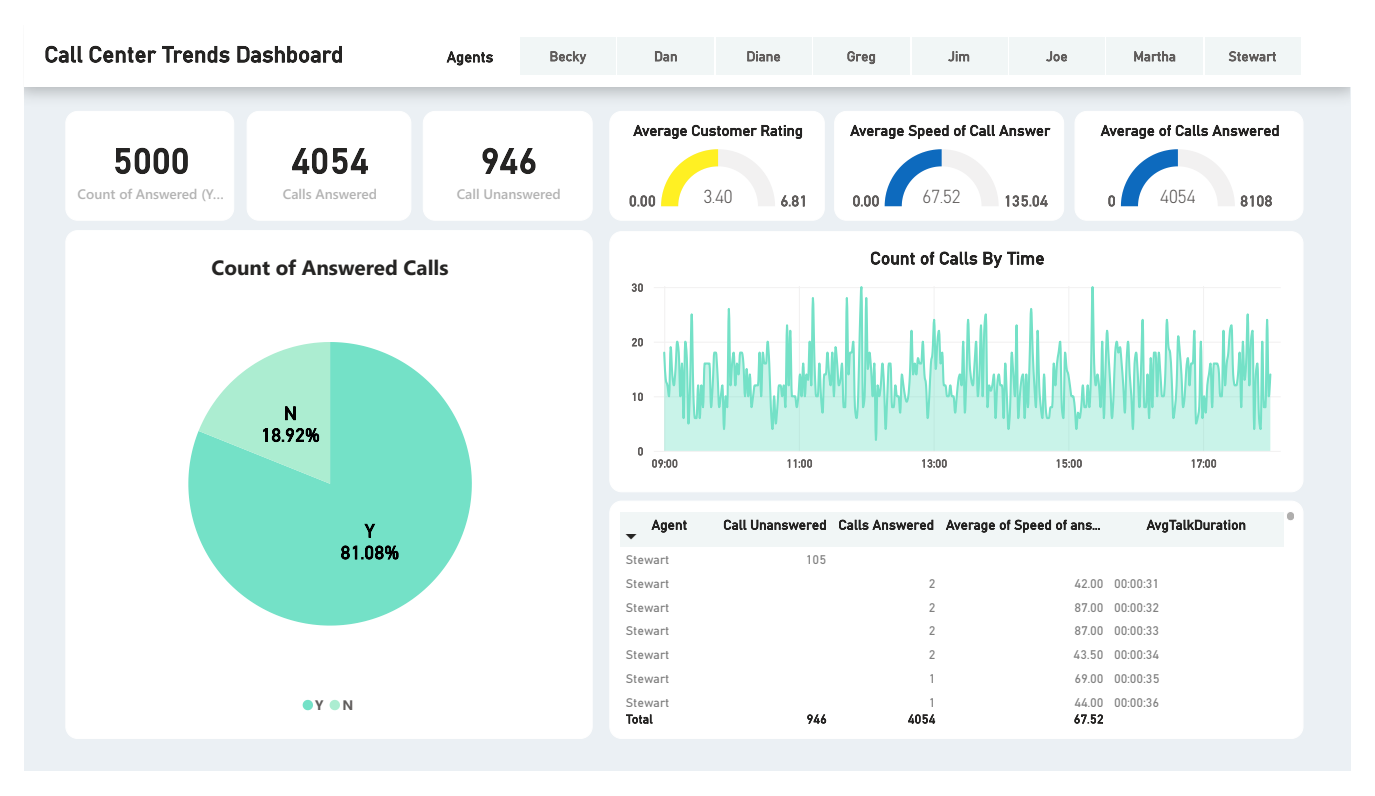

This screenshot's page, from the dashboard's own definition file:
{"tool":"powerbi","page":{"name":"Page 1","canvas":[1280,720],"ordinal":0},"visuals":[{"type":"card","fields":{"Values":["CountNonNull(Sheet1.Answered (Y/N))"]},"box":[40,82.7,162.7,106.4],"z":0},{"type":"textbox","box":[0,0,1280,60],"z":1000},{"type":"card","fields":{"Values":["Sheet1.Calls Answered"]},"box":[214.5,82.7,159.1,106.4],"z":2000},{"type":"pieChart","title":"Count of Answered Calls","fields":{"Y":["CountNonNull(Sheet1.Answered (Y/N))"],"Category":["Sheet1.Answered (Y/N)"]},"box":[40,198.2,509.1,490.9],"z":3000},{"type":"areaChart","title":"Count of Calls By Time","fields":{"Y":["CountNonNull(Sheet1.Call Id)"],"Category":["Sheet1.Time"]},"box":[564.5,199.1,670.9,251.8],"z":4000},{"type":"tableEx","fields":{"Values":["Sheet1.Agent","Sheet1.Call Unanswered","Sheet1.Calls Answered","Avg(Sheet1.Speed of answer in seconds)","Sheet1.AvgTalkDuration"]},"box":[564.5,459.1,670.9,230],"z":5000},{"type":"gauge","title":"Average Customer Rating","fields":{"Y":["Avg(Sheet1.Satisfaction rating)"]},"box":[564.5,82.7,208.2,106.4],"z":6000},{"type":"gauge","title":"Average Speed of Call Answer","fields":{"Y":["Avg(Sheet1.Speed of answer in seconds)"]},"box":[781.8,82.7,221.8,106.4],"z":7000},{"type":"card","fields":{"Values":["Sheet1.Call Unanswered"]},"box":[385.5,82.7,163.6,106.4],"z":8000},{"type":"gauge","title":"Average of Calls Answered","fields":{"Y":["Sheet1.Calls Answered"]},"box":[1013.6,82.7,221.8,106.4],"z":9000},{"type":"slicer","title":"Agents","fields":{"Values":["Sheet1.Agent"]},"box":[448.2,0,812.7,60],"z":10000},{"type":"textbox","box":[402.7,17.3,145.5,63.6],"z":11000}]}

Visuals, with their boxes in screenshot pixels (x1, y1, x2, y2), scaled from the page's 1280x720 canvas onto the 1375x796 screenshot:
card - CountNonNull(Sheet1.Answered (Y/N)): <region>43, 91, 218, 209</region>
textbox: <region>0, 0, 1374, 66</region>
card - Sheet1.Calls Answered: <region>230, 91, 401, 209</region>
"Count of Answered Calls" pieChart: <region>43, 219, 590, 762</region>
"Count of Calls By Time" areaChart: <region>606, 220, 1327, 498</region>
tableEx - Sheet1.Agent x Sheet1.Call Unanswered: <region>606, 508, 1327, 762</region>
"Average Customer Rating" gauge: <region>606, 91, 830, 209</region>
"Average Speed of Call Answer" gauge: <region>840, 91, 1078, 209</region>
card - Sheet1.Call Unanswered: <region>414, 91, 590, 209</region>
"Average of Calls Answered" gauge: <region>1089, 91, 1327, 209</region>
"Agents" slicer: <region>481, 0, 1354, 66</region>
textbox: <region>433, 19, 589, 89</region>
